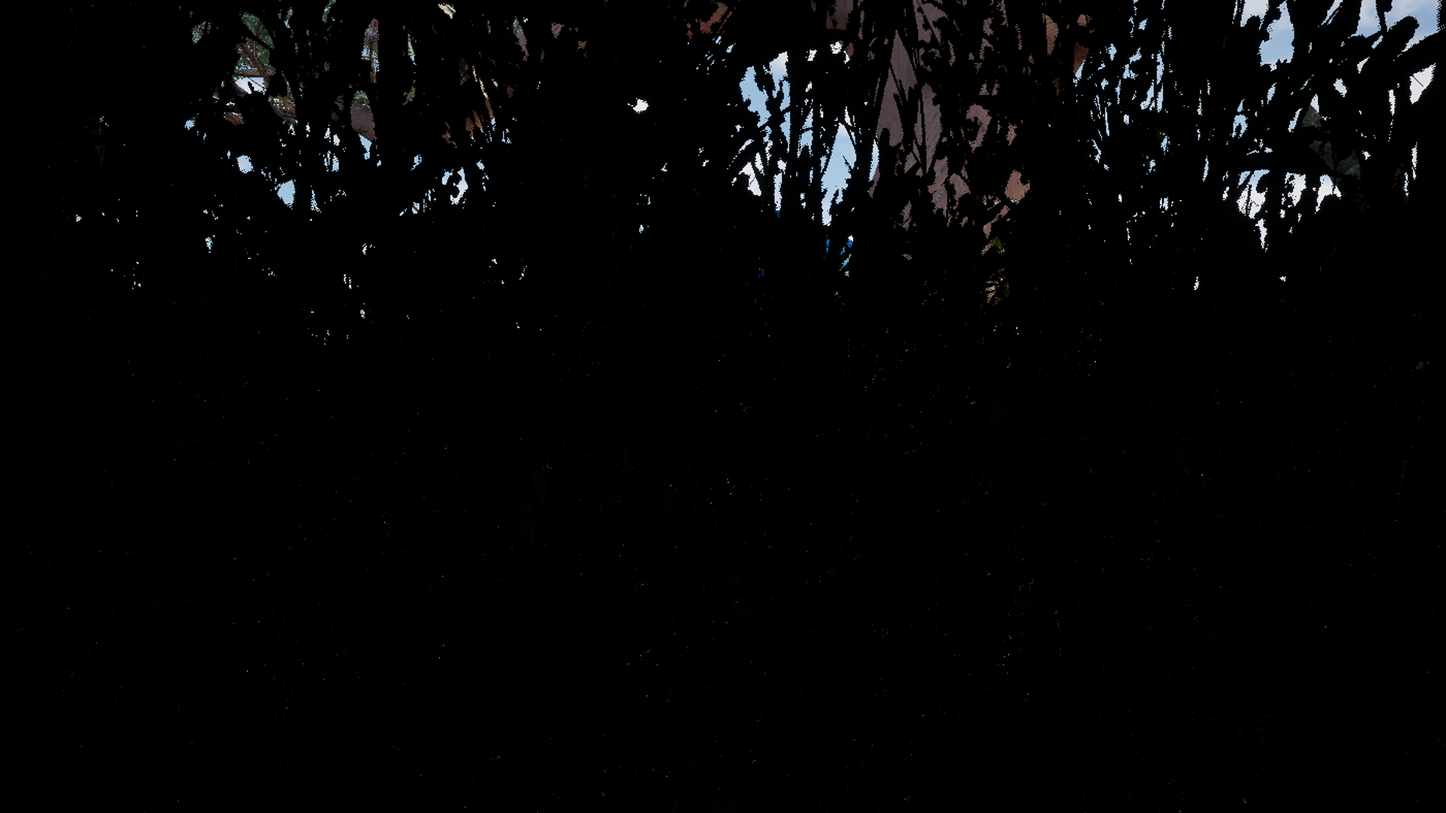Piplup: (396, 0, 1247, 813)
